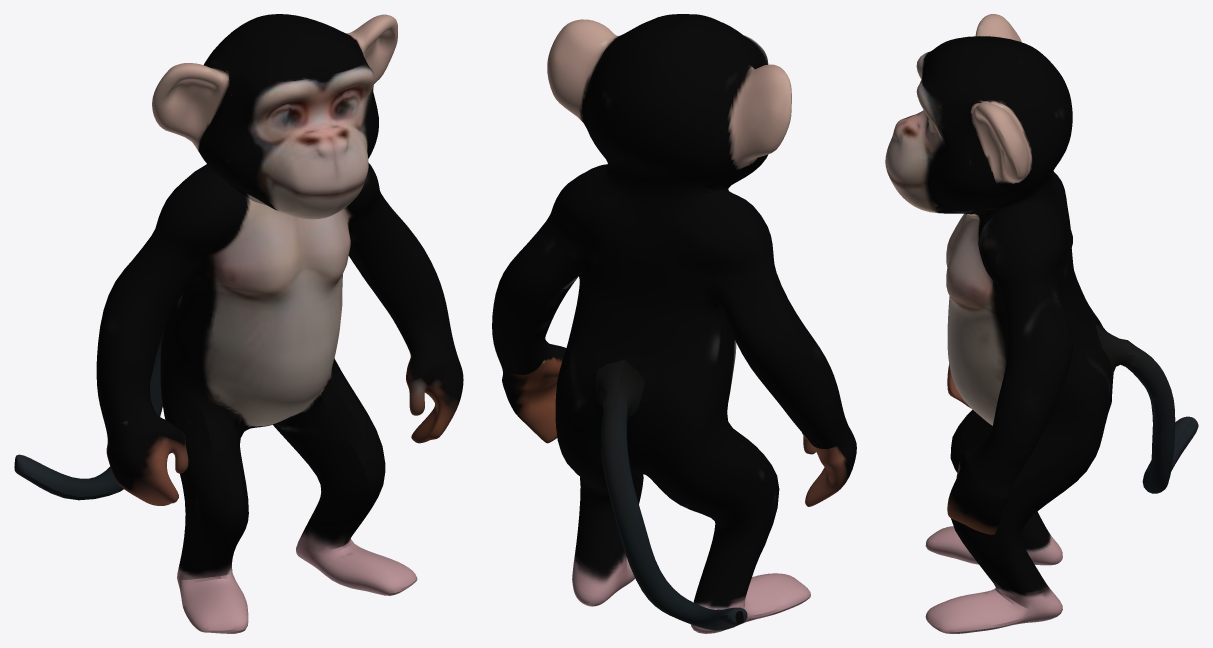
Rendered from idle.fbx.
3 views of the same model, side by side, from view 1: azimuth 30°, elevation 25°; view 2: azimuth 150°, elevation 25°; view 3: azimuth 270°, elevation 25° (orthographic). The views are drawn at different scales.
Parts seen in each view (by area): view 1: Plane.002; view 2: Plane.002; view 3: Plane.002.
Part boxes in pixels (x1,y1,x2,y2): Plane.002: [14, 14, 463, 633]; Plane.002: [492, 14, 856, 633]; Plane.002: [885, 14, 1198, 633].
Size of the model in its own units: 0.00523 by 0.00829 by 0.00429.
1 material, 1 textured.
